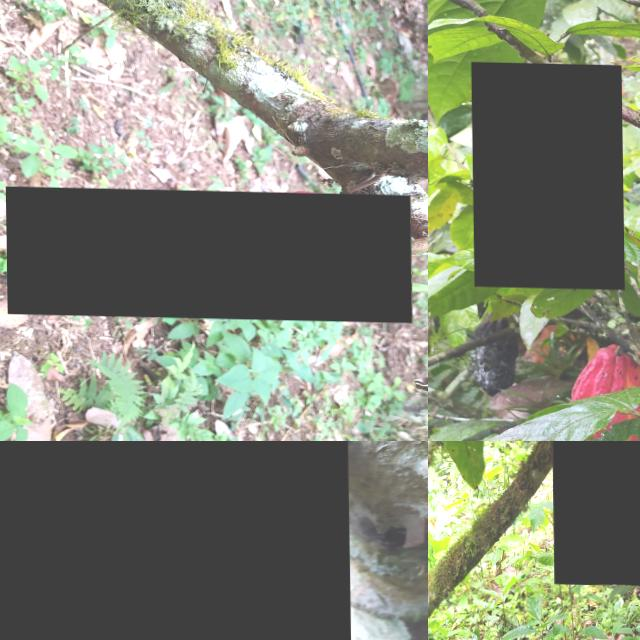Fitoftora: (0, 441, 352, 640)
Monilia: (5, 186, 411, 320), (471, 61, 623, 288)
Sana: (548, 441, 640, 584)
